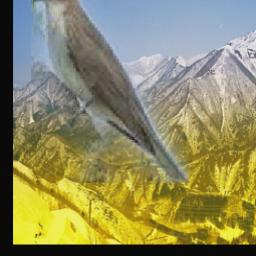Cuckoo: (31, 0, 190, 183)
